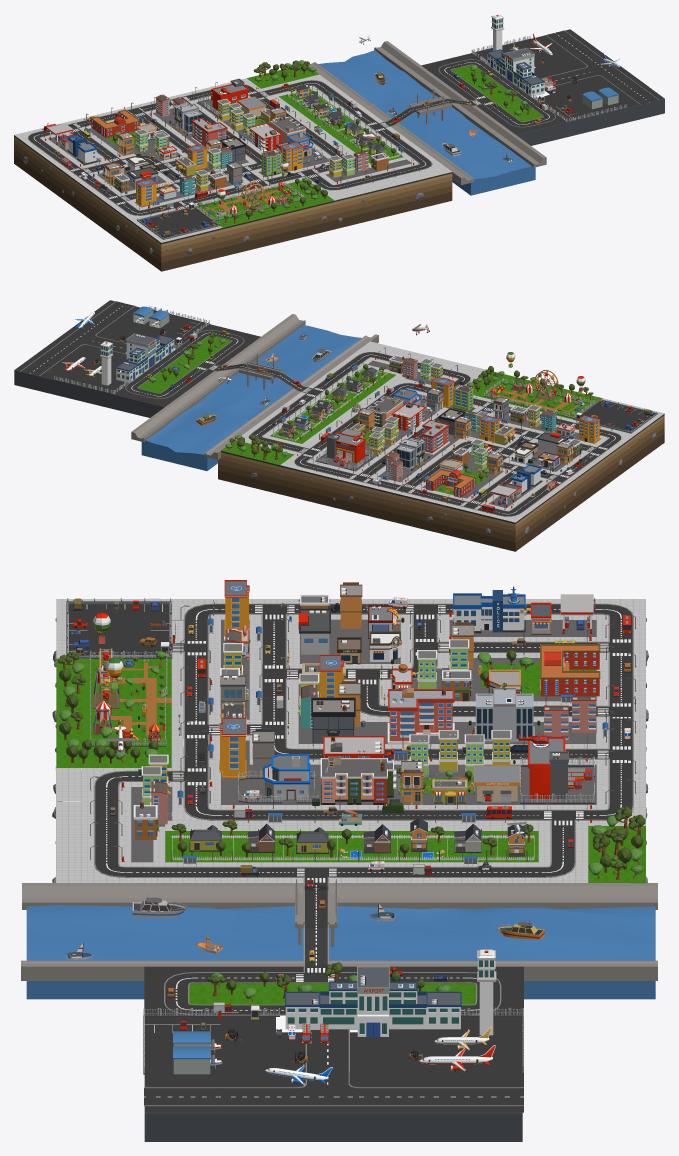
Rendered from low_poly_city.glb.
3 views of the same model, one above another, from view 1: azimuth 30°, elevation 25°; view 2: azimuth 150°, elevation 25°; view 3: azimuth 270°, elevation 25° (orthographic). The views are drawn at different scales.
Visible parts, largest first — view 1: River_1, Ground_Tile_1__1_, Ground_Tile_1__2_, Dam_1, Ground_Tile_2__1_, Airport_1, Dam_1__1_, School_1, Apartment_6, Apartment_5, Fire_Station_1, Bank_1 (+15 smaller); view 2: River_1, Ground_Tile_1, Ground_Tile_1__2_, Dam_1, Ground_Tile_2, Airport_1, Dam_1__1_, School_1, Fire_Station_1, Apartment_6, Bank_1, Apartment_5 (+16 smaller); view 3: River_1, Dam_1__1_, Ground_Tile_2__2_, Airport_1, Dam_1, Apartment_1, Apartment_6, School_1, Asphalt_1__66_, Bank_1, Police_Station_1, Fire_Station_1 (+35 smaller).
Boxes of the visible parts, x1,y1,x2,y2 form: River_1: [318, 50, 535, 195]; Ground_Tile_1__1_: [160, 172, 452, 271]; Ground_Tile_1__2_: [15, 136, 159, 270]; Dam_1: [374, 41, 546, 167]; Ground_Tile_2__1_: [516, 99, 663, 145]; Airport_1: [487, 48, 544, 96]; Dam_1__1_: [304, 61, 473, 185]; School_1: [91, 109, 140, 137]; Apartment_6: [191, 117, 227, 146]; Apartment_5: [248, 123, 282, 150]; Fire_Station_1: [211, 78, 249, 110]; Bank_1: [172, 103, 201, 133]; River_1: [141, 325, 361, 470]; Ground_Tile_1: [218, 451, 516, 551]; Ground_Tile_1__2_: [517, 415, 662, 550]; Dam_1: [131, 314, 305, 442]; Ground_Tile_2: [17, 371, 164, 417]; Airport_1: [116, 333, 174, 382]; Dam_1__1_: [204, 334, 378, 460]; School_1: [425, 469, 475, 497]; Fire_Station_1: [326, 432, 365, 463]; Apartment_6: [422, 419, 449, 454]; Bank_1: [396, 438, 426, 469]; Apartment_5: [391, 402, 426, 430]; River_1: [26, 905, 655, 999]; Dam_1__1_: [22, 883, 657, 909]; Ground_Tile_2__2_: [144, 1112, 522, 1141]; Airport_1: [285, 966, 461, 1036]; Dam_1: [21, 960, 657, 980]; Apartment_1: [320, 756, 396, 804]; Apartment_6: [387, 688, 454, 744]; School_1: [540, 644, 600, 696]; Asphalt_1__66_: [144, 1060, 244, 1112]; Bank_1: [474, 682, 534, 742]; Police_Station_1: [452, 590, 526, 633]; Fire_Station_1: [528, 736, 568, 799].
Bounding box in the file's own units: 385 × 52.34 × 201.
3 materials, 3 textured.
